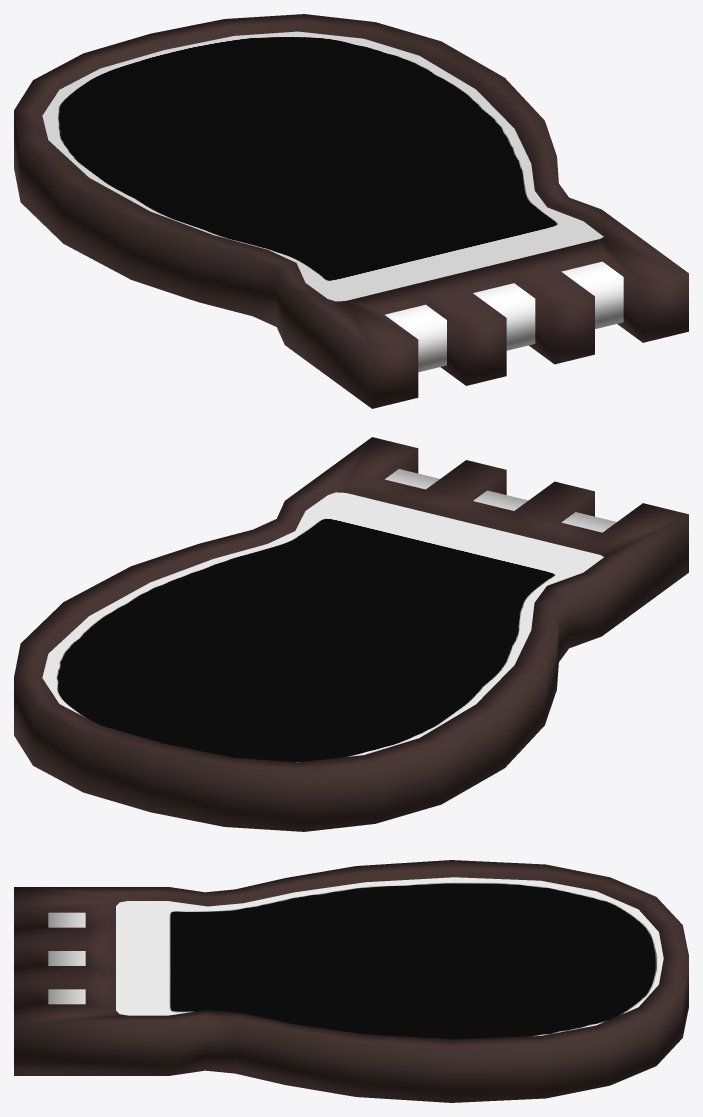
Rendered from octophone.fbx.
3 renders of one model, top to bottom at view 1: azimuth 30°, elevation 25°; view 2: azimuth 150°, elevation 25°; view 3: azimuth 270°, elevation 25°, orthographic. The views are drawn at different scales.
Visible parts, largest first — view 1: Body; view 2: Body; view 3: Body.
Part boxes in pixels (box(x1,y1,x2,y2)): Body: box(14, 14, 688, 408); Body: box(14, 437, 688, 831); Body: box(14, 860, 688, 1102).
Bounding box in the file's own units: 0.2033 × 0.0257 × 0.3033.
1 material, 1 textured.
